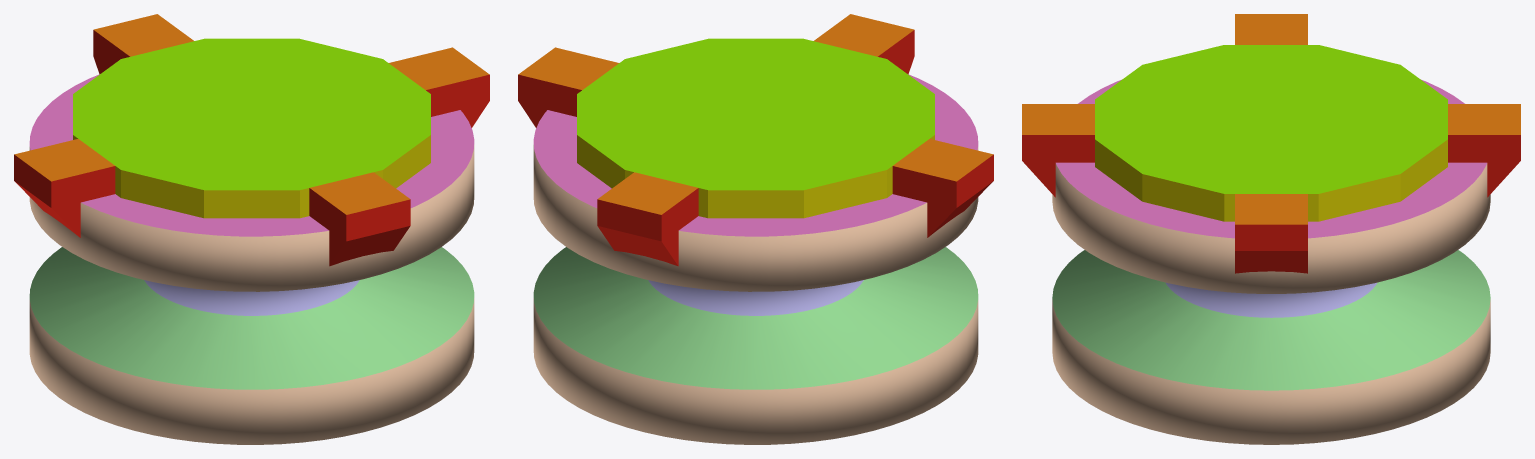
3 renders of one model, left to right at view 1: azimuth 30°, elevation 25°; view 2: azimuth 150°, elevation 25°; view 3: azimuth 270°, elevation 25°, orthographic.
Parts seen in each view (by area): view 1: Cylinder, base; view 2: Cylinder, base; view 3: Cylinder, base.
Boxes of the visible parts, x1,y1,x2,y2 form: Cylinder: (29, 74, 474, 444); base: (14, 14, 489, 266); Cylinder: (533, 74, 978, 444); base: (518, 14, 993, 266); Cylinder: (1052, 79, 1490, 444); base: (1022, 14, 1520, 273).
Size of the model in its own units: 0.2732 by 0.1408 by 0.2732.
